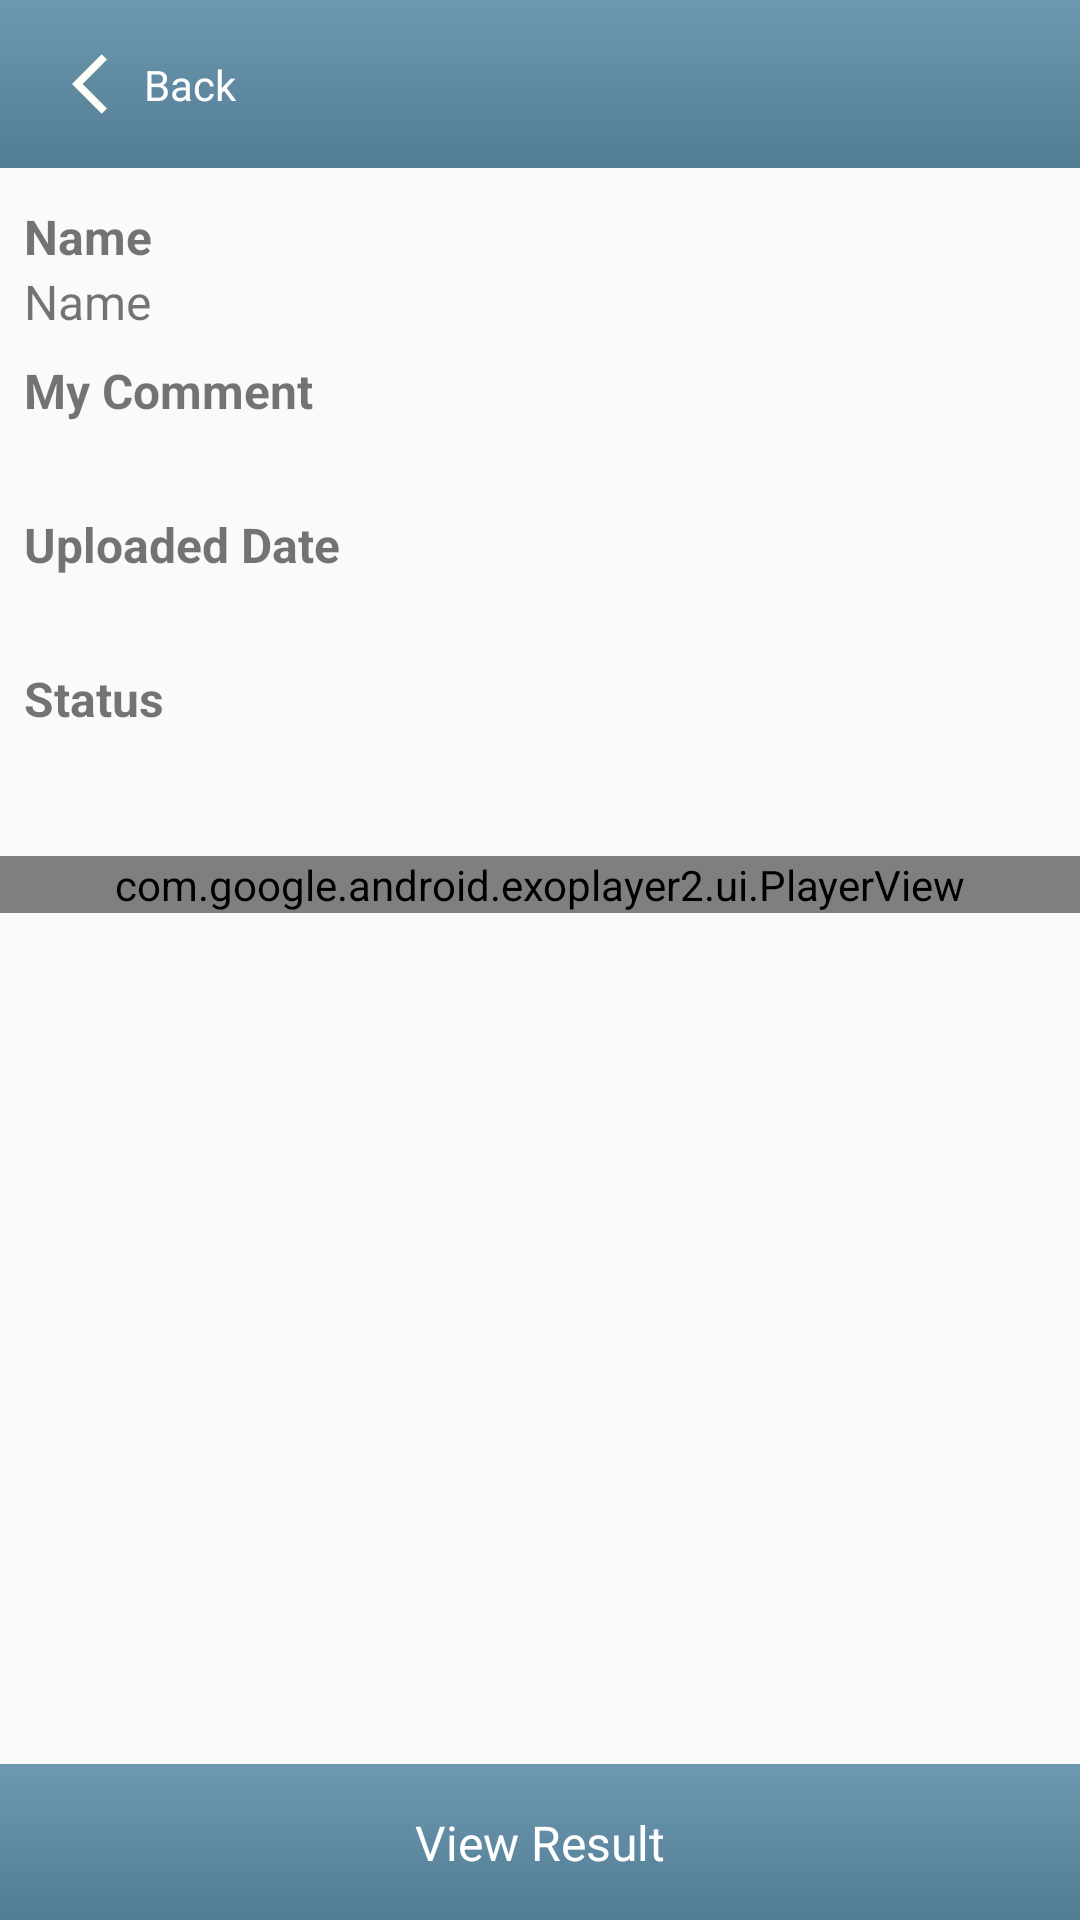

Where icons sit on this 1080*1920 app screen, as region(x1, y1, x2, y2):
arrow: region(72, 54, 107, 114)
